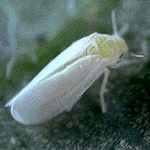whitefly: (3, 8, 147, 124)
